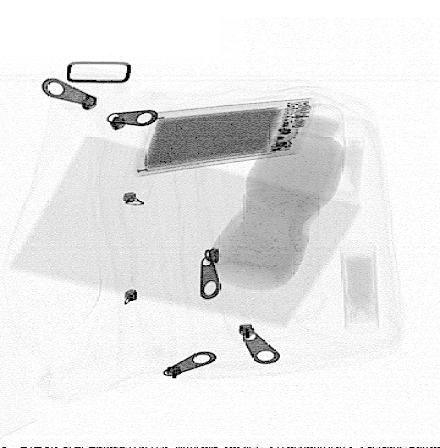Powerbank: (134, 98, 316, 179)
